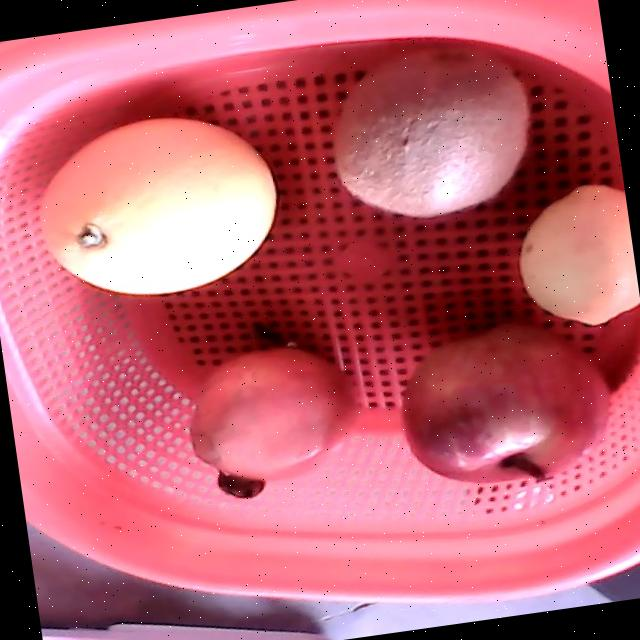apple: (399, 322, 612, 484)
kiwi: (332, 42, 530, 219)
lemon: (518, 184, 640, 326)
orange: (36, 118, 277, 294)
pomegranate: (186, 344, 362, 499)
